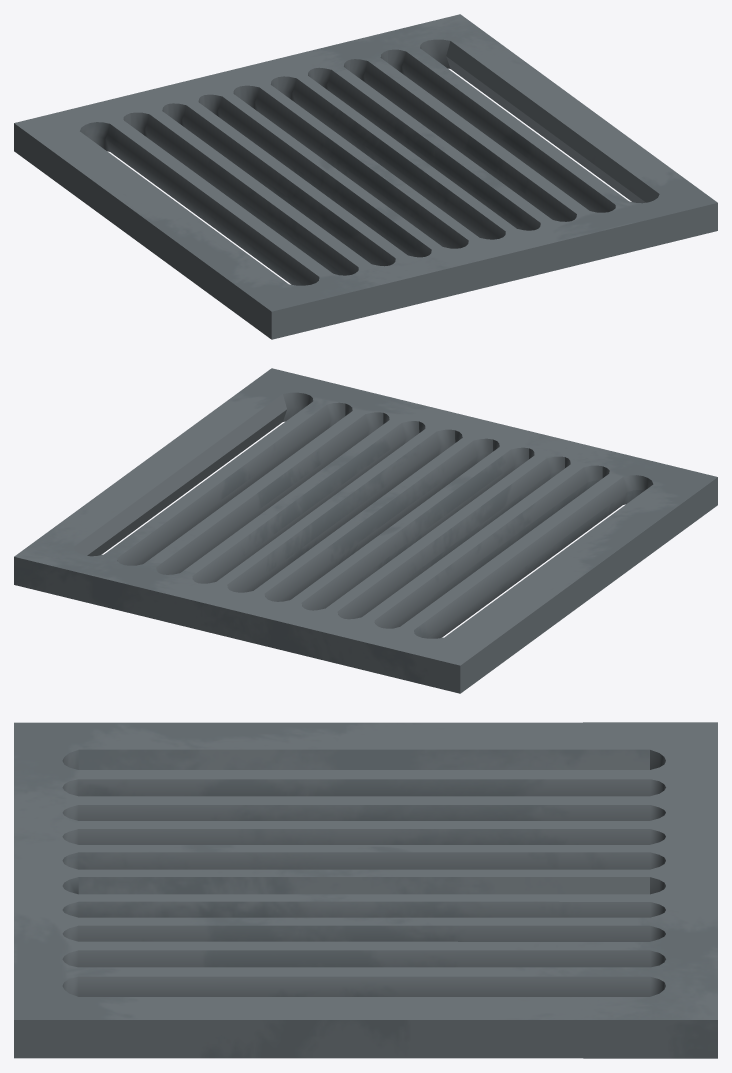
File: Hazard_Grate.fbx
3 views of the same model, one above another, from view 1: azimuth 30°, elevation 25°; view 2: azimuth 150°, elevation 25°; view 3: azimuth 270°, elevation 25° (orthographic). The views are drawn at different scales.
Visible parts, largest first — view 1: Grate; view 2: Grate; view 3: Grate.
Boxes of the visible parts, x1,y1,x2,y2 form: Grate: [14, 14, 717, 339]; Grate: [14, 368, 717, 693]; Grate: [14, 722, 717, 1058].
Size of the model in its own units: 3 by 0.1806 by 3.
1 material, 1 textured.
